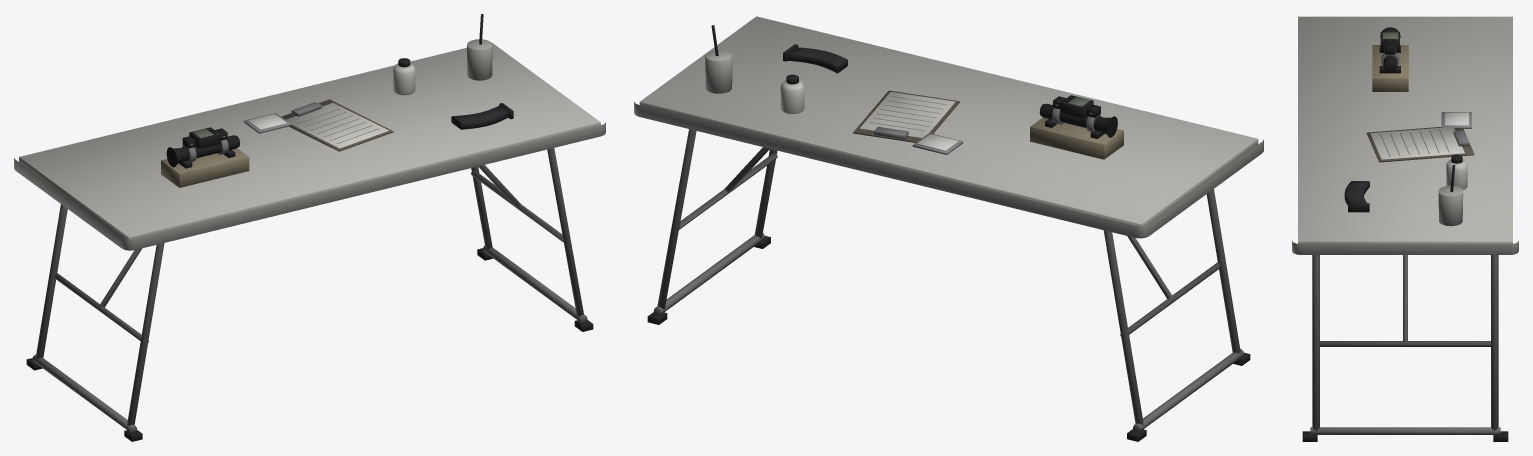
The model's file is chrono_table.glb.
The picture shows the model from 3 angles, left to right: view 1: azimuth 30°, elevation 25°; view 2: azimuth 150°, elevation 25°; view 3: azimuth 270°, elevation 25°; orthographic projection. The views are drawn at different scales.
Visible parts, largest first — view 1: ChronoTable; view 2: ChronoTable; view 3: ChronoTable.
Boxes of the visible parts, <box> form: ChronoTable: <box>14,14,605,441</box>; ChronoTable: <box>634,16,1263,441</box>; ChronoTable: <box>1292,16,1518,441</box>.
Bounding box in the file's own units: 1.8 × 0.95 × 0.75.
